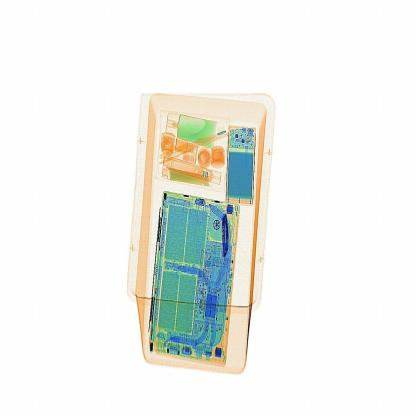knife: (210, 205, 233, 263)
